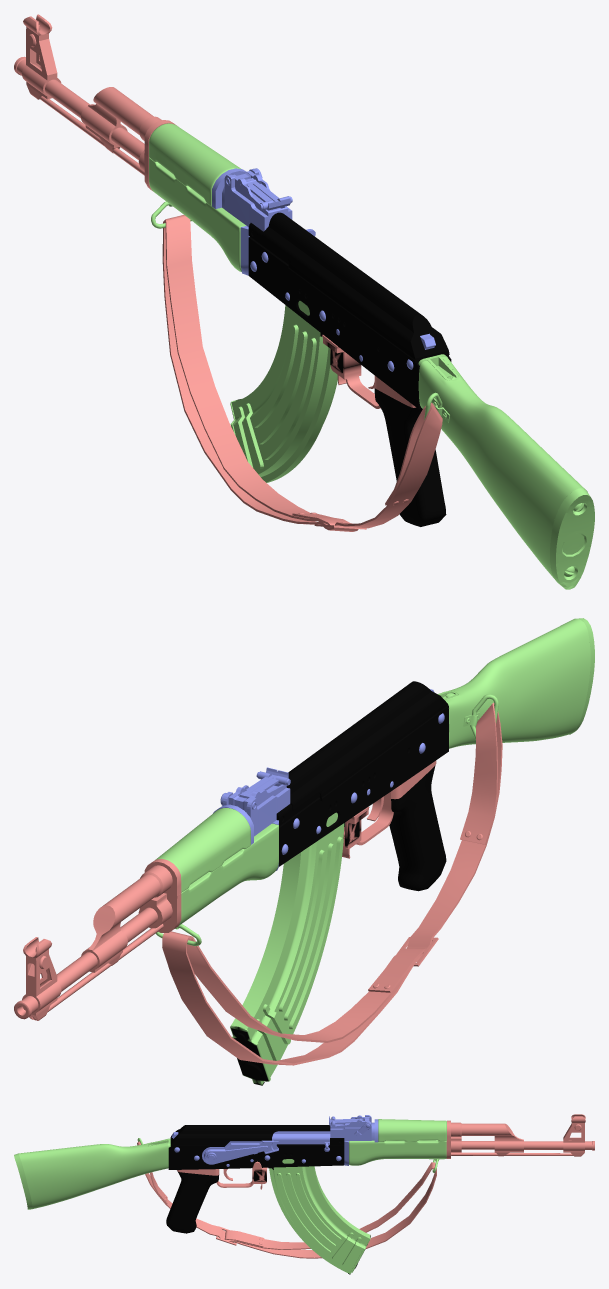
3 views of the same model, one above another, from view 1: azimuth 30°, elevation 25°; view 2: azimuth 150°, elevation 25°; view 3: azimuth 270°, elevation 25° (orthographic). The views are drawn at different scales.
Visible parts, largest first — view 1: 1, 2, 3, Object006; view 2: 1, 2, 3, Object006; view 3: 2, 1, 3, Object006.
Boxes of the visible parts, x1=… form: 1: x1=14, y1=14, x2=446, y2=531; 2: x1=149, y1=123, x2=594, y2=589; 3: x1=212, y1=168, x2=451, y2=409; Object006: x1=231, y1=305, x2=337, y2=482; 1: x1=14, y1=702, x2=502, y2=1065; 2: x1=155, y1=618, x2=594, y2=1085; 3: x1=213, y1=681, x2=448, y2=870; Object006: x1=231, y1=823, x2=344, y2=1084; 2: x1=14, y1=1119, x2=446, y2=1274; 1: x1=137, y1=1114, x2=594, y2=1258; 3: x1=168, y1=1115, x2=378, y2=1169; Object006: x1=269, y1=1166, x2=369, y2=1273.
Bounding box in the file's own units: 120 × 404 × 1344.
